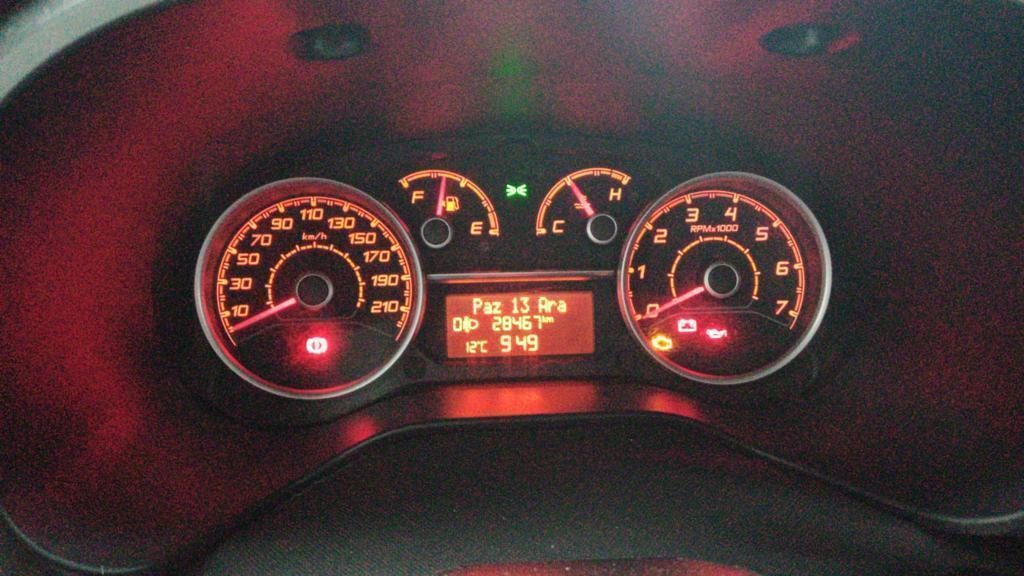0: (452, 316, 462, 332)
1: (511, 297, 518, 313), (465, 341, 469, 353)
2: (491, 315, 501, 331), (469, 340, 476, 353)
3: (519, 296, 529, 313)
4: (515, 335, 526, 351), (511, 315, 521, 329)
6: (522, 315, 531, 330)
7: (533, 314, 541, 329)
8: (502, 315, 511, 331)
9: (527, 334, 538, 351), (500, 334, 511, 351)
X: (472, 297, 482, 313), (537, 296, 547, 312), (547, 299, 557, 312), (492, 300, 502, 313), (482, 301, 492, 314), (557, 299, 566, 312), (480, 340, 488, 352), (546, 316, 554, 322), (541, 315, 546, 322)
odometer: (441, 288, 599, 360)
